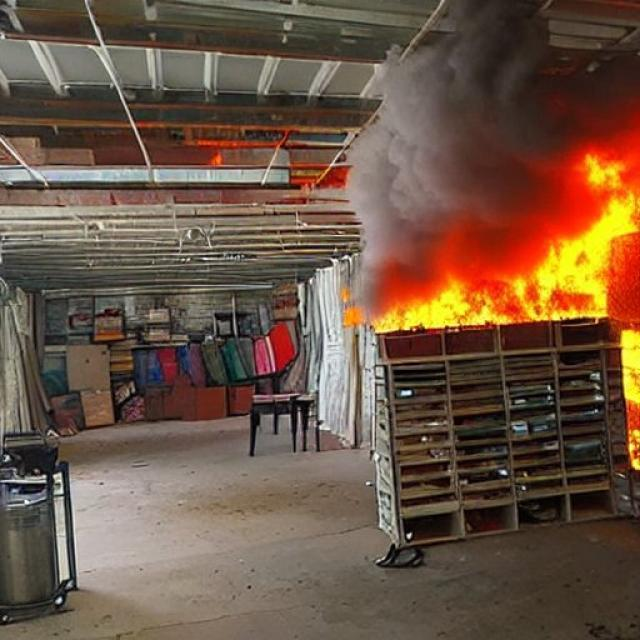Fire: (379, 154, 640, 338)
Smoke: (322, 2, 640, 192)
